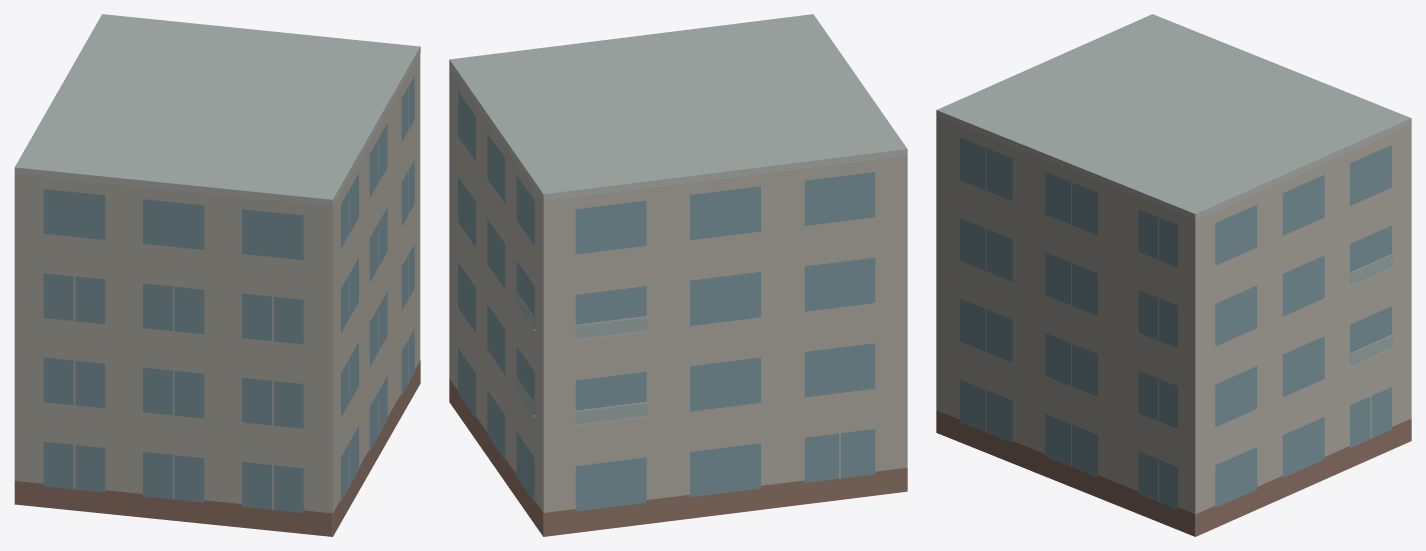
Rendered from residential-6e4a8937-6bc5-42b7-8edf-deab575232fe.glb.
The picture shows the model from 3 angles, left to right: view 1: azimuth 30°, elevation 25°; view 2: azimuth 150°, elevation 25°; view 3: azimuth 270°, elevation 25°; orthographic projection. The views are drawn at different scales.
Visible parts, largest first — view 1: residential-6e4a8937-6bc5-42b7-8edf-deab575232fe.tmp; view 2: residential-6e4a8937-6bc5-42b7-8edf-deab575232fe.tmp; view 3: residential-6e4a8937-6bc5-42b7-8edf-deab575232fe.tmp.
Part boxes in pixels (<box>): residential-6e4a8937-6bc5-42b7-8edf-deab575232fe.tmp: <box>14,14,420,536</box>; residential-6e4a8937-6bc5-42b7-8edf-deab575232fe.tmp: <box>449,14,907,536</box>; residential-6e4a8937-6bc5-42b7-8edf-deab575232fe.tmp: <box>936,14,1411,536</box>.
Bounding box in the file's own units: 16.23 × 12.2 × 16.28.
